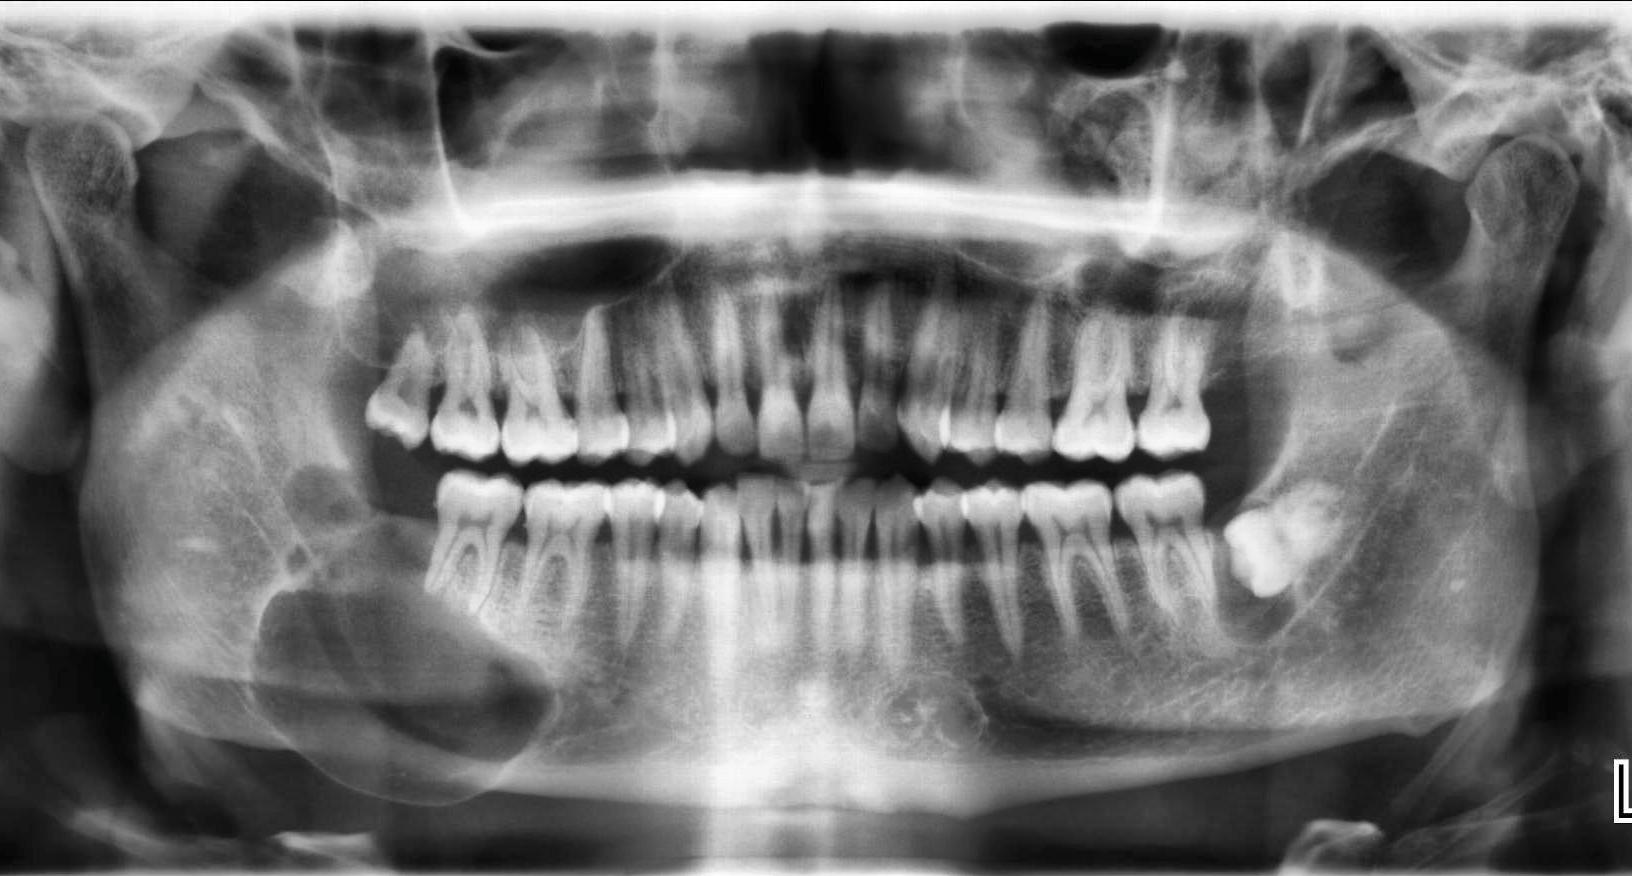dentigeroz: (248, 463, 559, 806)
